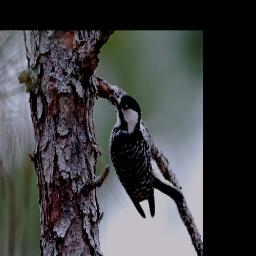Woodpecker: (106, 90, 184, 219)
